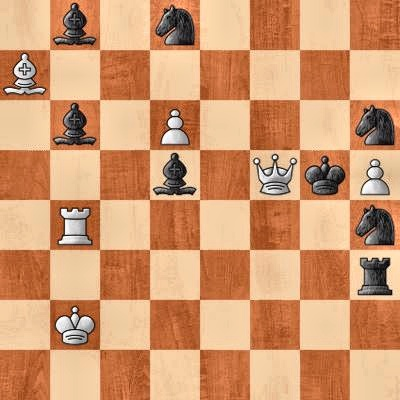black-bishop: (50, 0, 100, 50), (50, 100, 100, 150), (150, 150, 200, 200)
black-king: (300, 150, 350, 200)
black-knight: (150, 0, 200, 50), (350, 100, 400, 150), (350, 200, 400, 250)
black-rook: (350, 250, 400, 300)
white-bishop: (0, 50, 50, 100)
white-king: (50, 300, 100, 350)
white-pawn: (150, 100, 200, 150), (350, 150, 400, 200)
white-queen: (250, 150, 300, 200)
white-rook: (50, 200, 100, 250)
